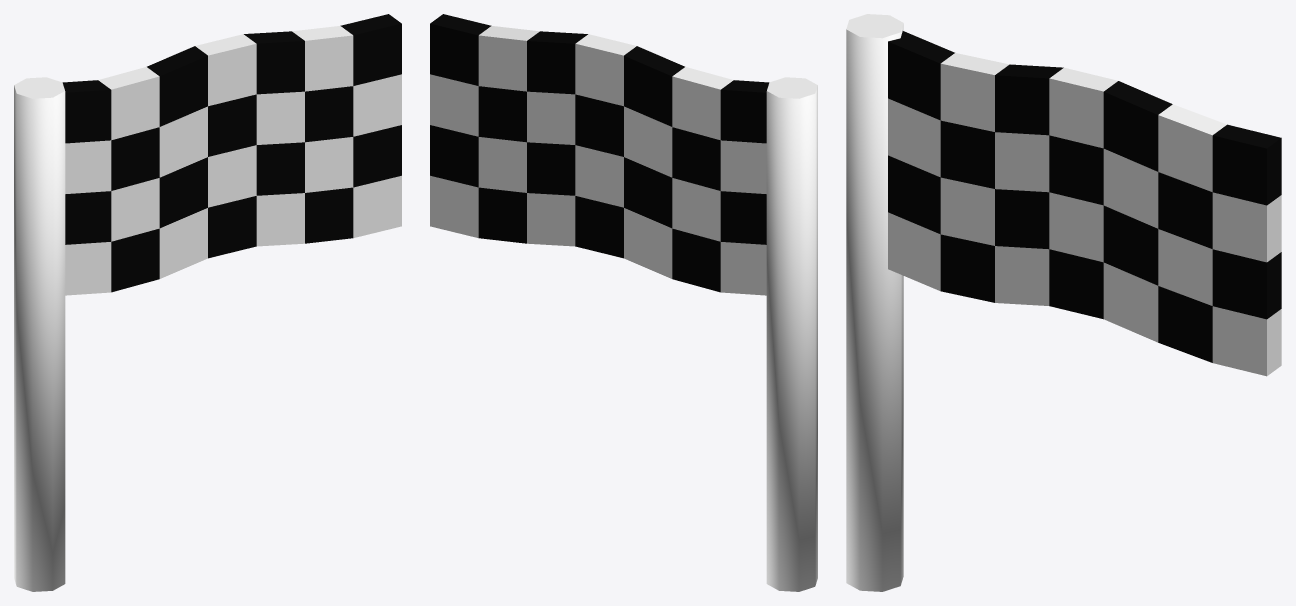
Rendered from finish.obj.
3 renders of one model, left to right at view 1: azimuth 30°, elevation 25°; view 2: azimuth 150°, elevation 25°; view 3: azimuth 330°, elevation 25°, orthographic. The views are drawn at different scales.
Visible parts, largest first — view 1: Finish_Cylinder.001; view 2: Finish_Cylinder.001; view 3: Finish_Cylinder.001.
Part boxes in pixels (x1=…): Finish_Cylinder.001: x1=14, y1=14, x2=401, y2=591; Finish_Cylinder.001: x1=430, y1=14, x2=817, y2=591; Finish_Cylinder.001: x1=846, y1=14, x2=1281, y2=591.
Size of the model in its own units: 0.504 by 0.6274 by 0.061.
1 material, 1 textured.
